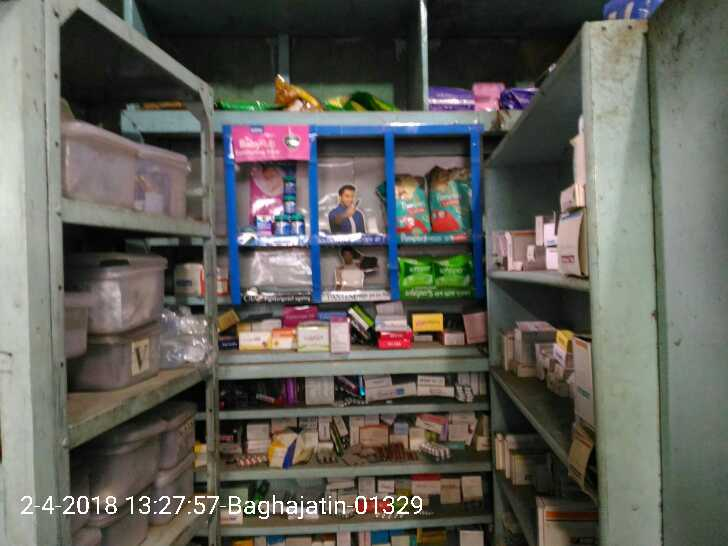vicks: (254, 173, 308, 237)
